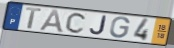4: (132, 17, 150, 43)
A: (38, 8, 65, 34)
C: (65, 11, 89, 34)
G: (109, 16, 132, 39)
J: (89, 15, 108, 36)
T: (25, 7, 43, 30)
